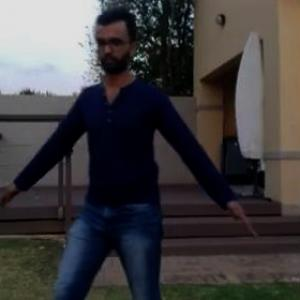land: (19, 23, 267, 299)
